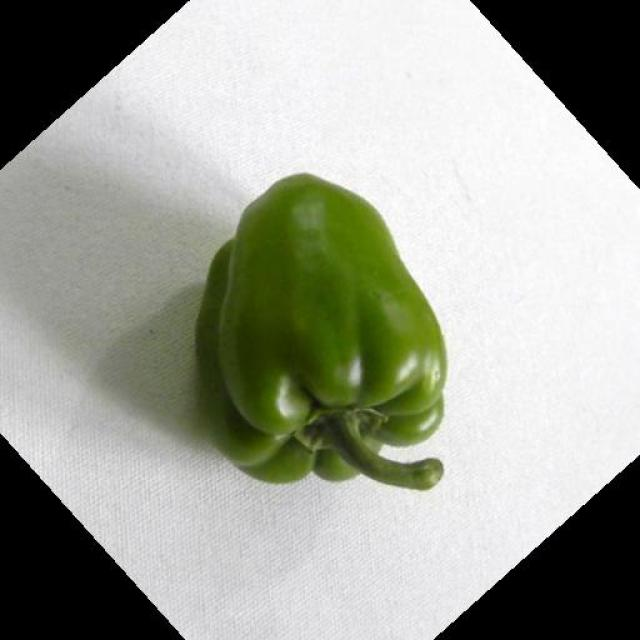Fresh_Capsicum: (171, 168, 495, 544)
